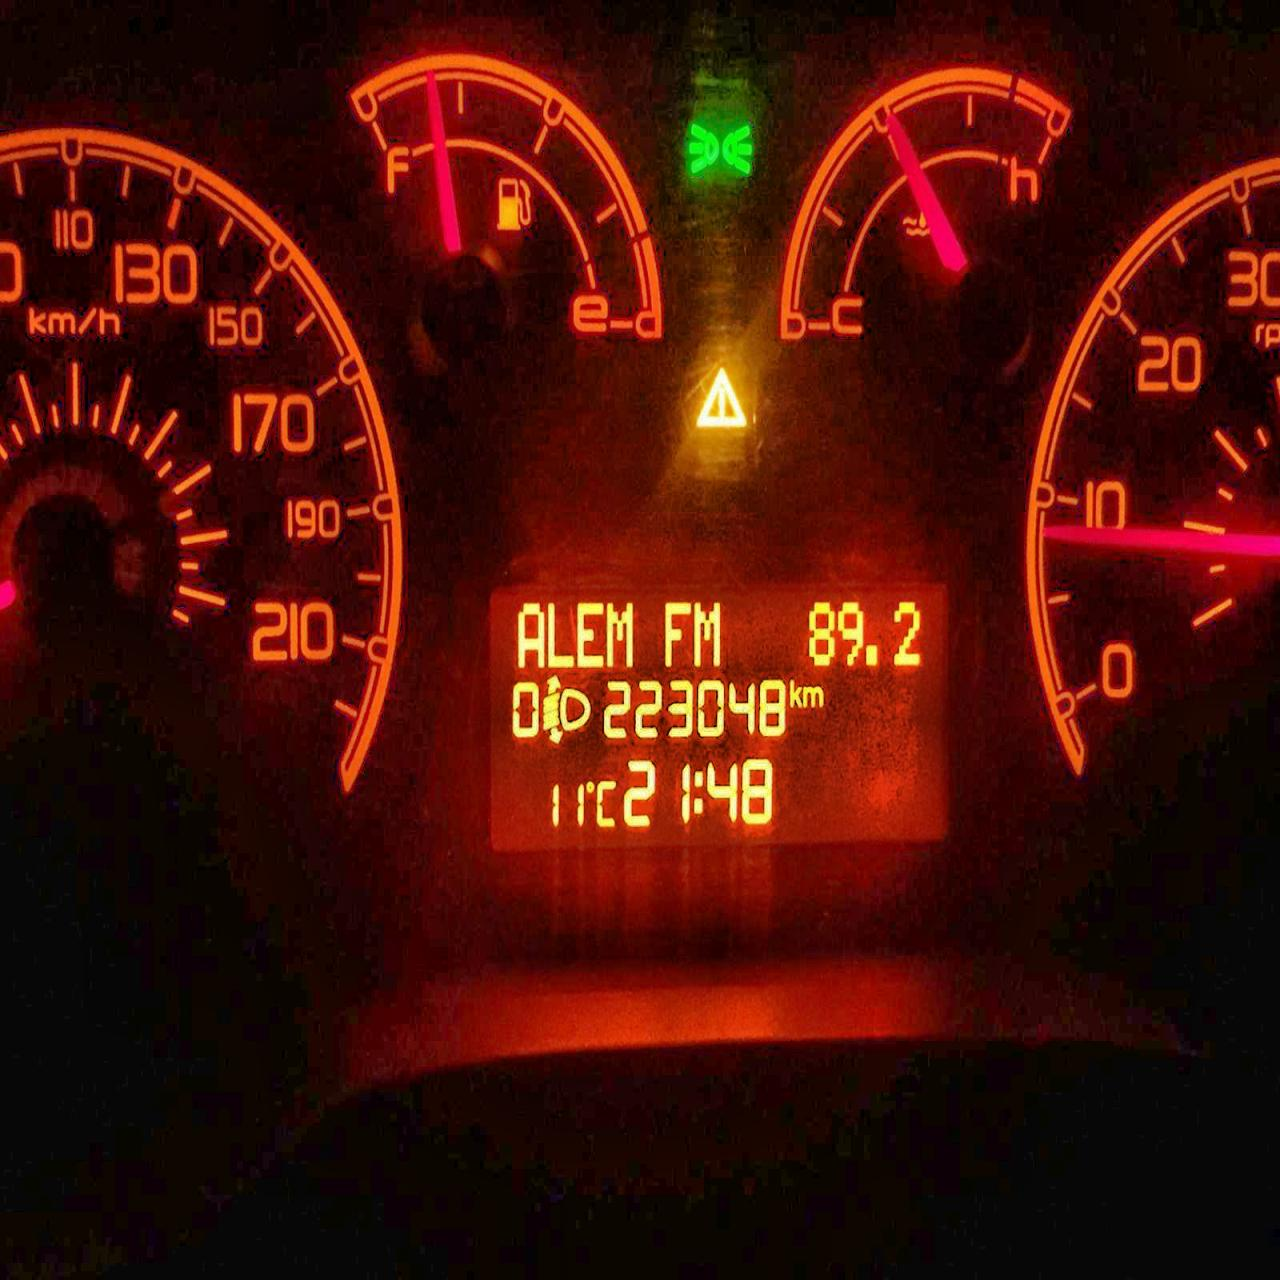-: (864, 642, 878, 667)
0: (696, 678, 724, 736), (511, 680, 539, 737)
1: (680, 762, 690, 824), (576, 782, 585, 828), (551, 782, 559, 828)
2: (622, 757, 655, 826), (893, 600, 921, 666), (633, 680, 662, 737), (602, 680, 631, 738)
3: (667, 678, 694, 737)
4: (704, 761, 737, 823), (728, 680, 754, 735)
8: (741, 757, 774, 824), (806, 599, 836, 667), (757, 679, 787, 737)
9: (836, 600, 863, 667)
X: (693, 600, 722, 667), (576, 600, 604, 667), (605, 600, 633, 667), (663, 600, 692, 667), (517, 600, 545, 667), (547, 600, 573, 667), (595, 778, 617, 826), (692, 768, 703, 815), (802, 683, 824, 708), (788, 678, 802, 708)
odometer: (485, 584, 949, 855)
